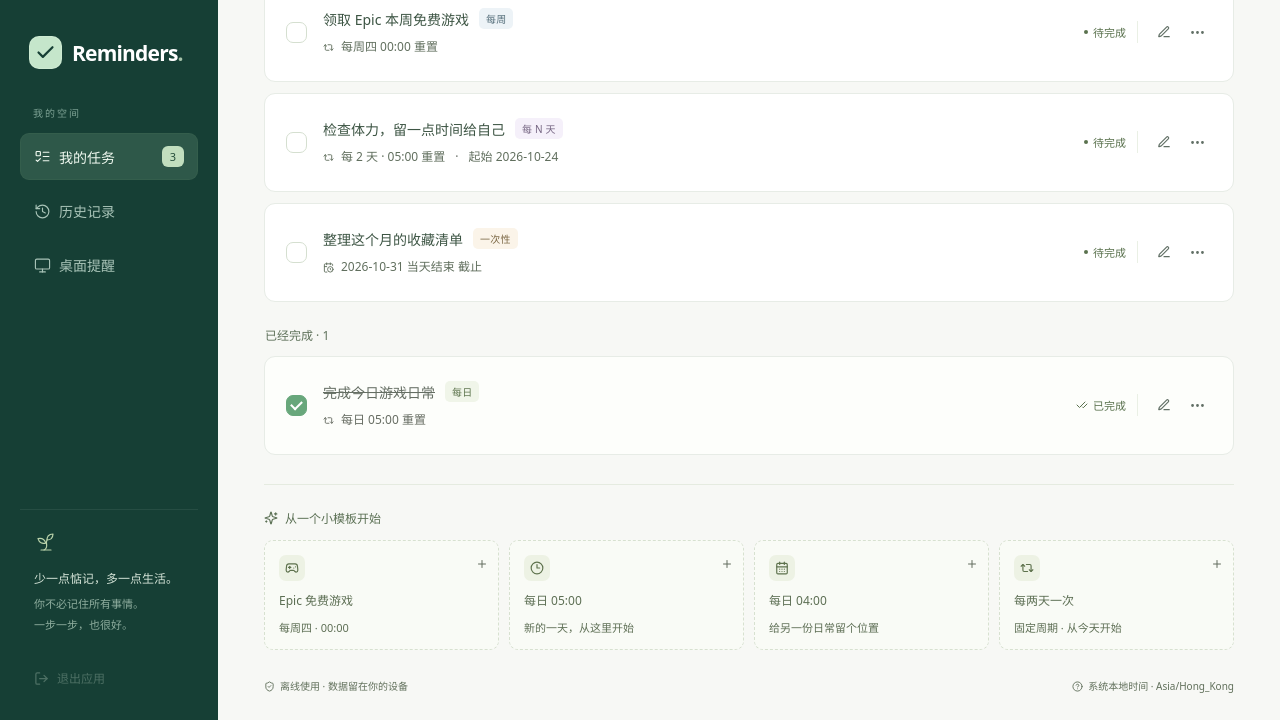
编辑器行为 › 归档要确认，确认后保留历史
(page scrolled)
Click the button named "更多操作 完成今日游戏日常" at [1197, 405], box [1182,390,1212,420]
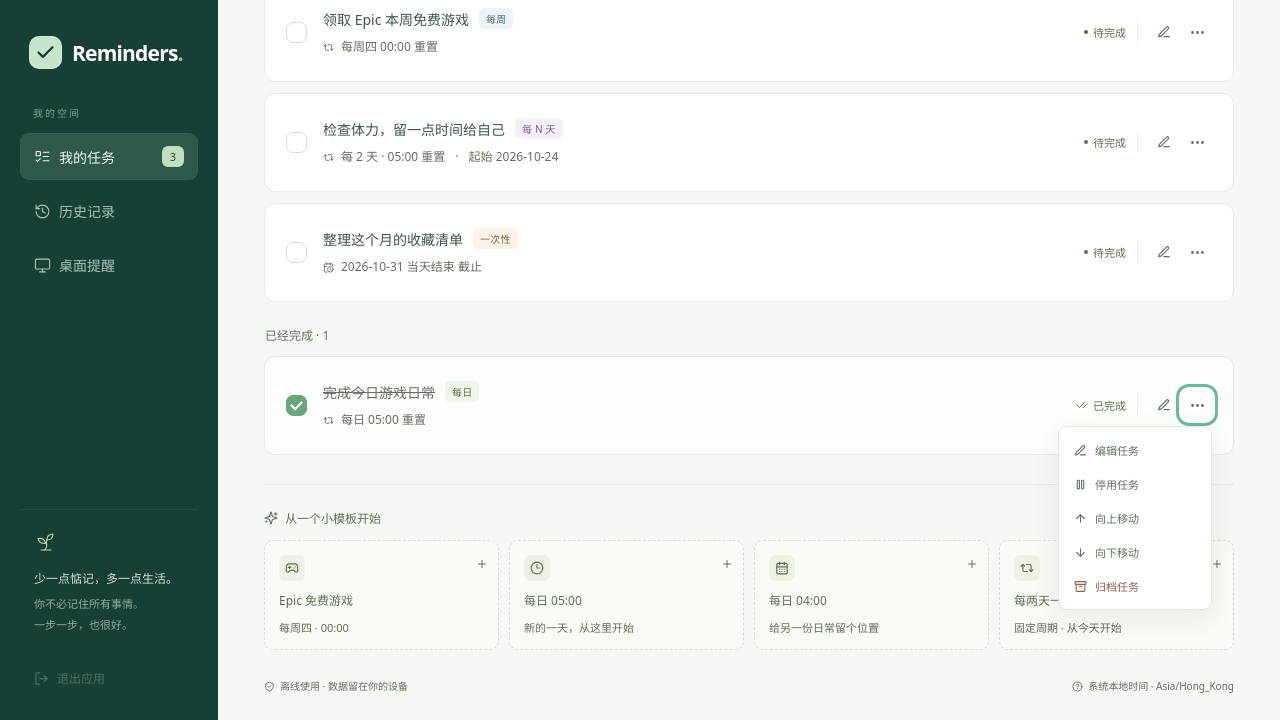
Click the menu item "归档任务" at [1135, 586], box [1065,569,1205,603]
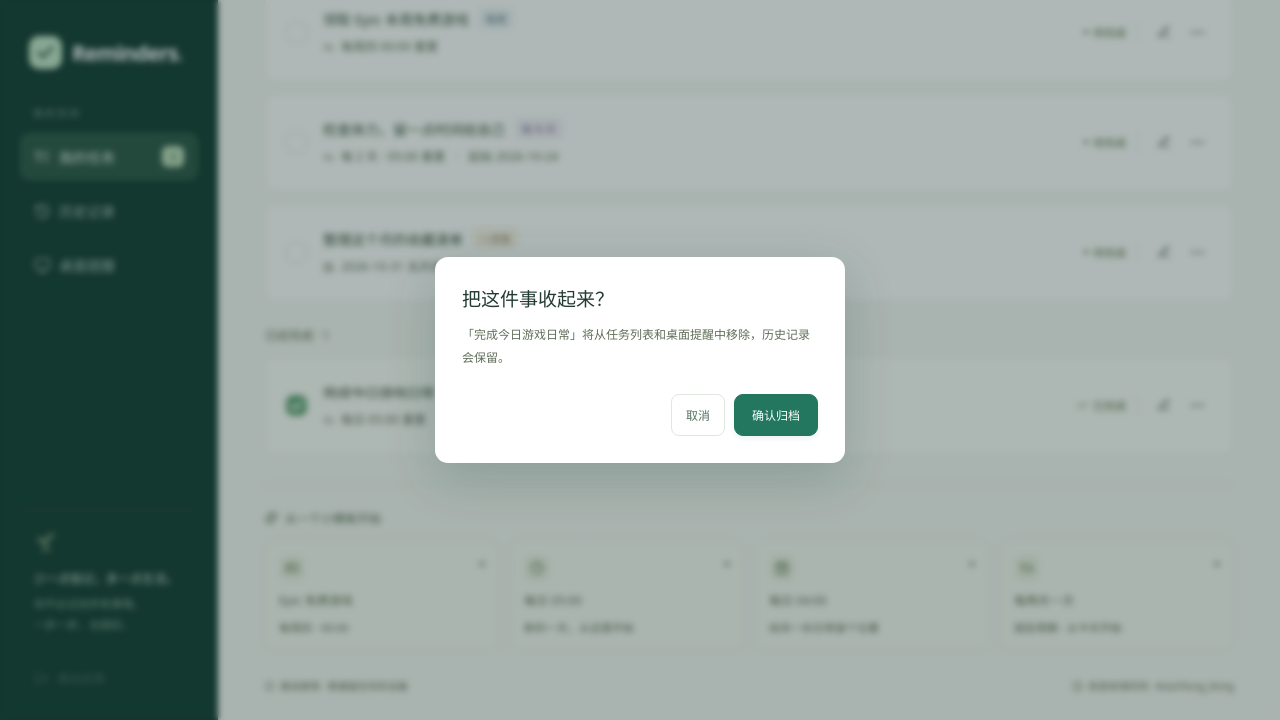
Expected: the checkbox named "撤销完成 完成今日游戏日常" is shown, [286,395,307,416]
Click the button "确认归档" at [776, 415], box [734,394,818,436]
(page scrolled)
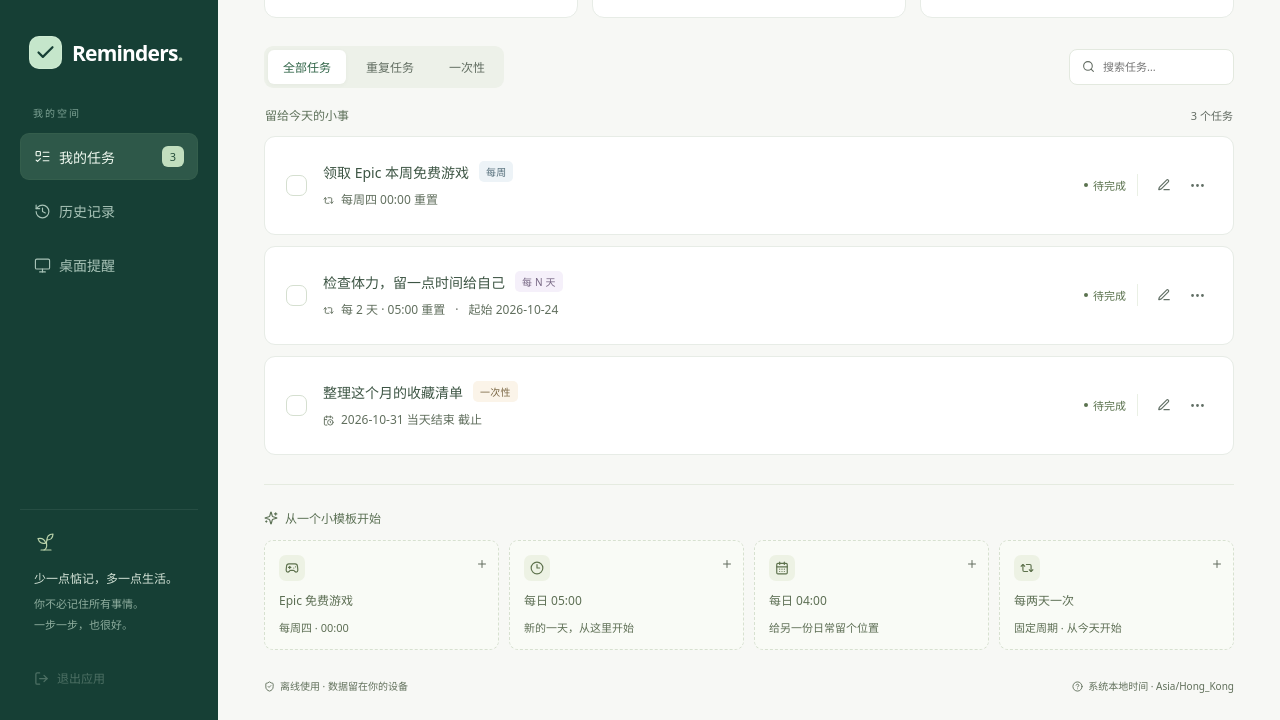
Click the button "历史记录" at [109, 211], box [20,188,198,234]
(page scrolled)
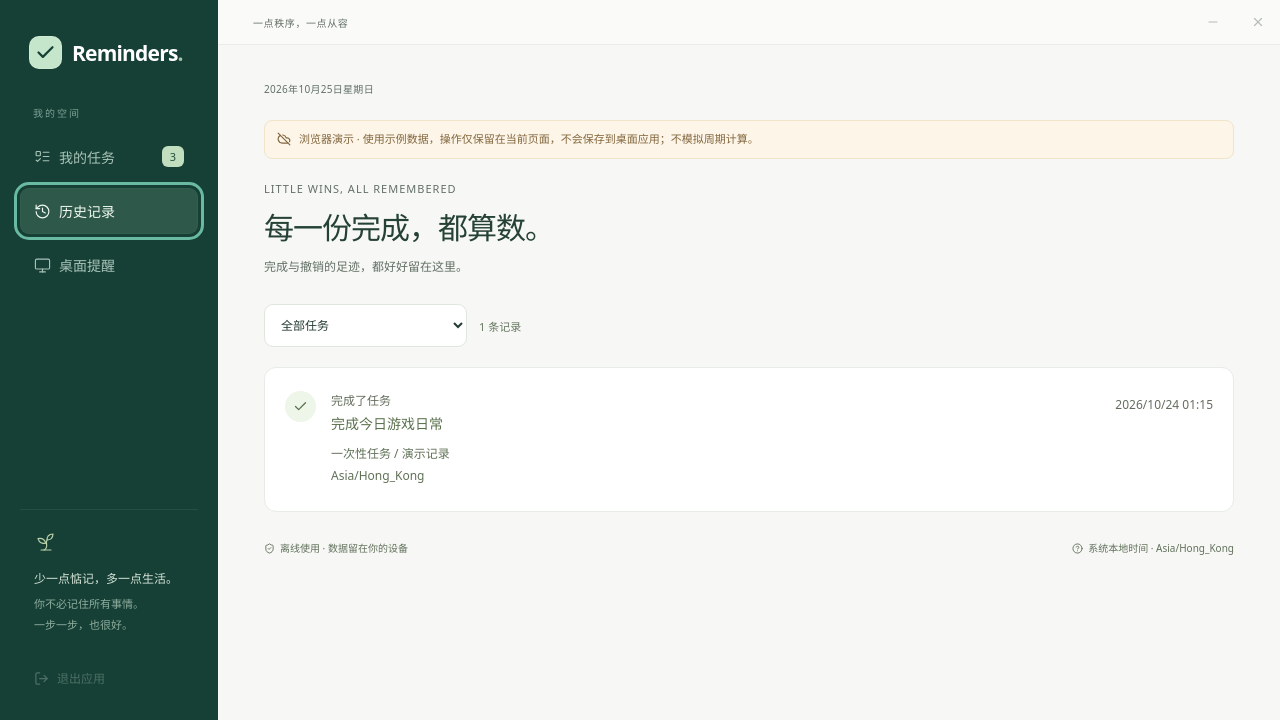
Result: the heading "完成今日游戏日常" is shown at [331,413,450,436]
